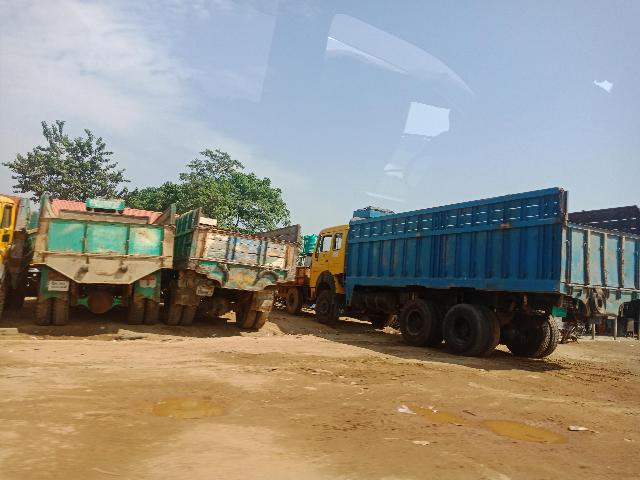truck: (307, 188, 640, 359), (26, 191, 174, 342), (174, 203, 301, 338)
